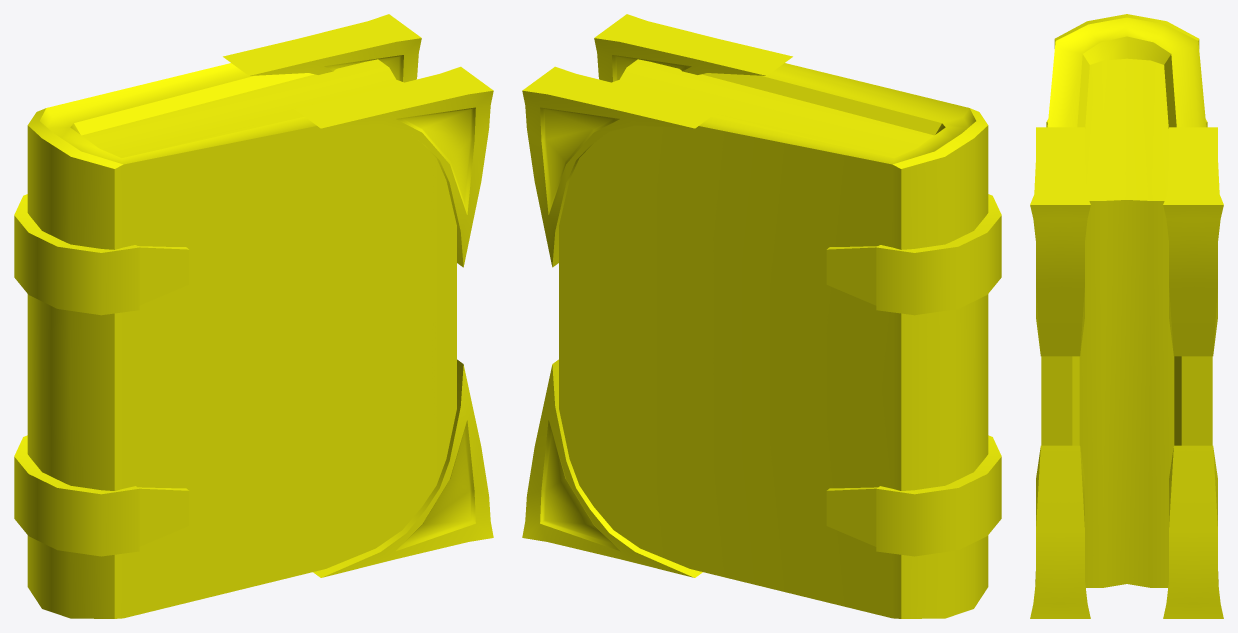
Rendered from Tome.glb.
3 views of the same model, side by side, from view 1: azimuth 30°, elevation 25°; view 2: azimuth 150°, elevation 25°; view 3: azimuth 270°, elevation 25° (orthographic). The views are drawn at different scales.
Visible parts, largest first — view 1: Tome; view 2: Tome; view 3: Tome.
Boxes of the visible parts, box(x1,y1,x2,y2) form: Tome: box(14, 14, 493, 618); Tome: box(522, 14, 1001, 618); Tome: box(1030, 14, 1223, 618).
Size of the model in its own units: 0.6273 by 0.6891 by 0.2756.
1 material, 1 textured.
